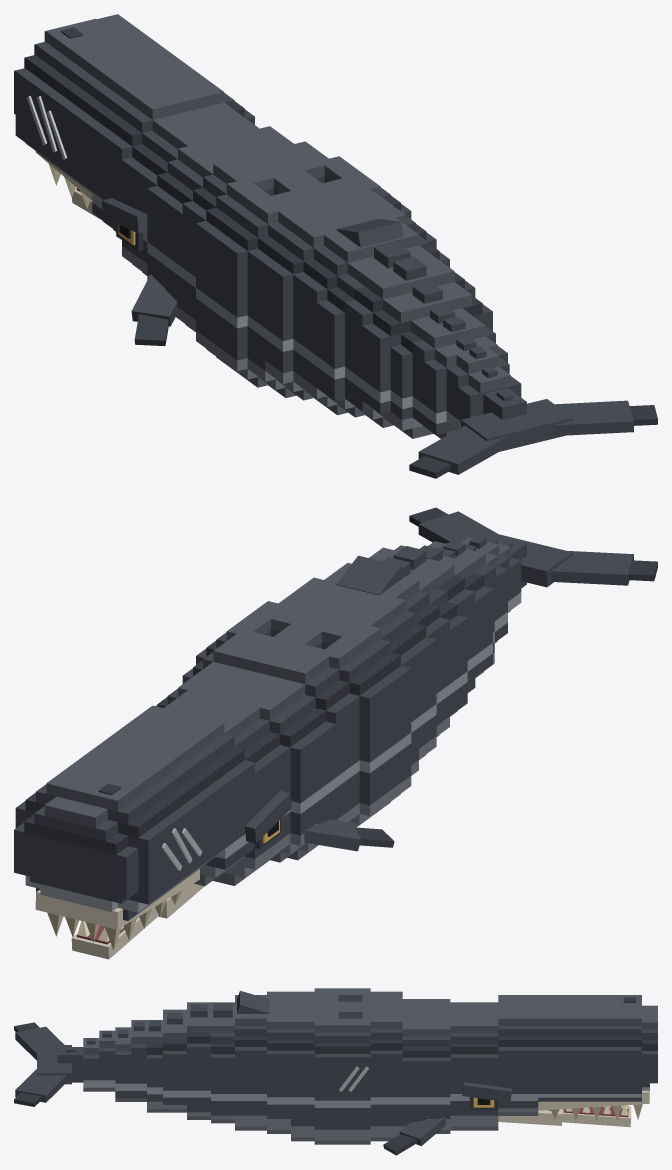
The model's file is Livyatan.obj.
3 renders of one model, top to bottom at view 1: azimuth 30°, elevation 25°; view 2: azimuth 150°, elevation 25°; view 3: azimuth 270°, elevation 25°, orthographic. The views are drawn at different scales.
Parts seen in each view (by area): view 1: Head, Fluke, S5, S8, S4, S7, S11, S10, S6, S9, S3, S1 (+8 smaller); view 2: Head, S4, S3, Fluke, S1, S5, S8, S2, S7, S6, S10, S9 (+7 smaller); view 3: Head, S4, S3, S8, S5, S6, S7, S1, S2, Fluke, S9, S10 (+9 smaller).
Boxes of the visible parts, left/top/right/bottom form: Head: left=14, top=14, right=259, bottom=275; Fluke: left=409, top=399, right=657, bottom=478; S5: left=219, top=173, right=411, bottom=387; S8: left=293, top=217, right=449, bottom=415; S4: left=196, top=156, right=362, bottom=374; S7: left=265, top=202, right=436, bottom=400; S11: left=362, top=282, right=492, bottom=429; S10: left=345, top=256, right=475, bottom=427; S6: left=247, top=189, right=387, bottom=397; S9: left=317, top=242, right=436, bottom=417; S3: left=182, top=141, right=328, bottom=331; S1: left=147, top=126, right=286, bottom=288; Head: left=14, top=690, right=291, bottom=950; S4: left=196, top=614, right=393, bottom=827; S3: left=182, top=634, right=359, bottom=846; Fluke: left=409, top=507, right=657, bottom=587; S1: left=156, top=675, right=318, bottom=862; S5: left=251, top=601, right=411, bottom=814; S8: left=324, top=555, right=449, bottom=736; S2: left=196, top=662, right=335, bottom=860; S7: left=296, top=577, right=436, bottom=759; S6: left=278, top=590, right=418, bottom=775; S10: left=369, top=546, right=475, bottom=692; S9: left=382, top=557, right=467, bottom=716; Head: left=450, top=995, right=657, bottom=1130; S4: left=338, top=988, right=370, bottom=1144; S3: left=370, top=991, right=402, bottom=1141; S8: left=235, top=990, right=269, bottom=1130; S5: left=314, top=988, right=338, bottom=1144; S6: left=291, top=991, right=314, bottom=1141; S7: left=267, top=991, right=290, bottom=1133; S1: left=426, top=999, right=450, bottom=1133; S2: left=402, top=999, right=426, bottom=1128; Fluke: left=14, top=1022, right=71, bottom=1106; S9: left=211, top=1002, right=234, bottom=1123; S10: left=187, top=1002, right=210, bottom=1119.
Size of the model in its own units: 12.69 by 8.63 by 40.34.
1 material, 1 textured.
